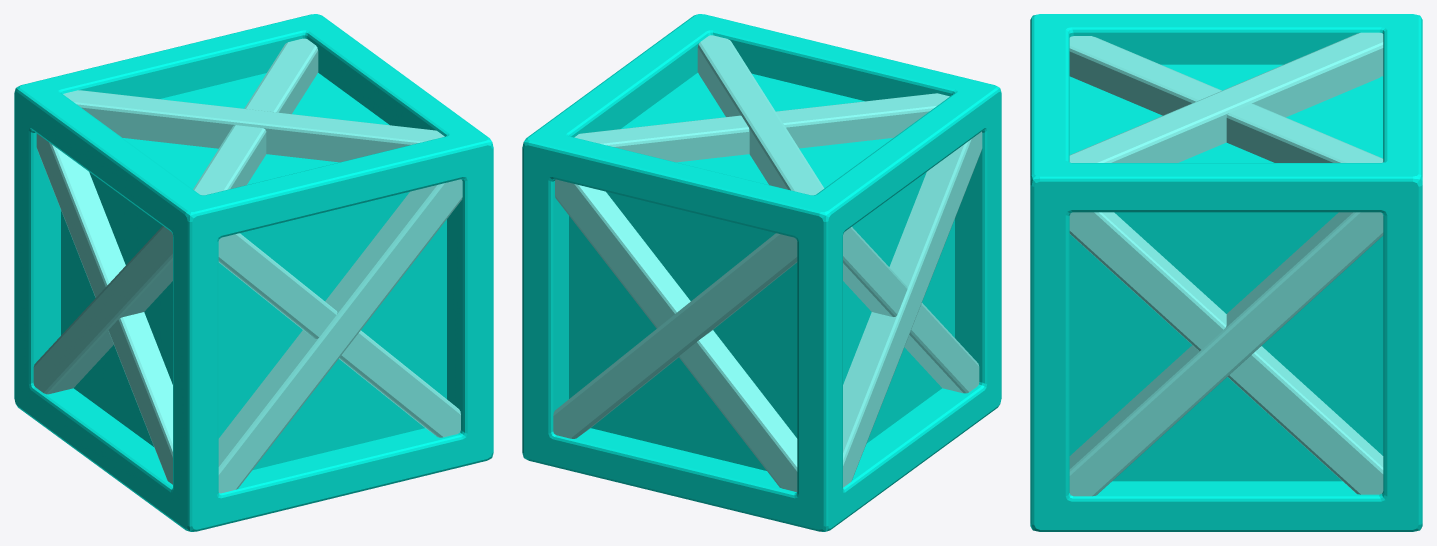
File: Crate_Hard_Drive.fbx
3 views of the same model, side by side, from view 1: azimuth 30°, elevation 25°; view 2: azimuth 150°, elevation 25°; view 3: azimuth 270°, elevation 25° (orthographic). The views are drawn at different scales.
Parts seen in each view (by area): view 1: Crate Hard Drive; view 2: Crate Hard Drive; view 3: Crate Hard Drive.
Boxes of the visible parts, x1,y1,x2,y2 form: Crate Hard Drive: [14, 14, 493, 531]; Crate Hard Drive: [522, 14, 1001, 531]; Crate Hard Drive: [1030, 14, 1422, 531].
Size of the model in its own units: 100 by 100 by 100.
